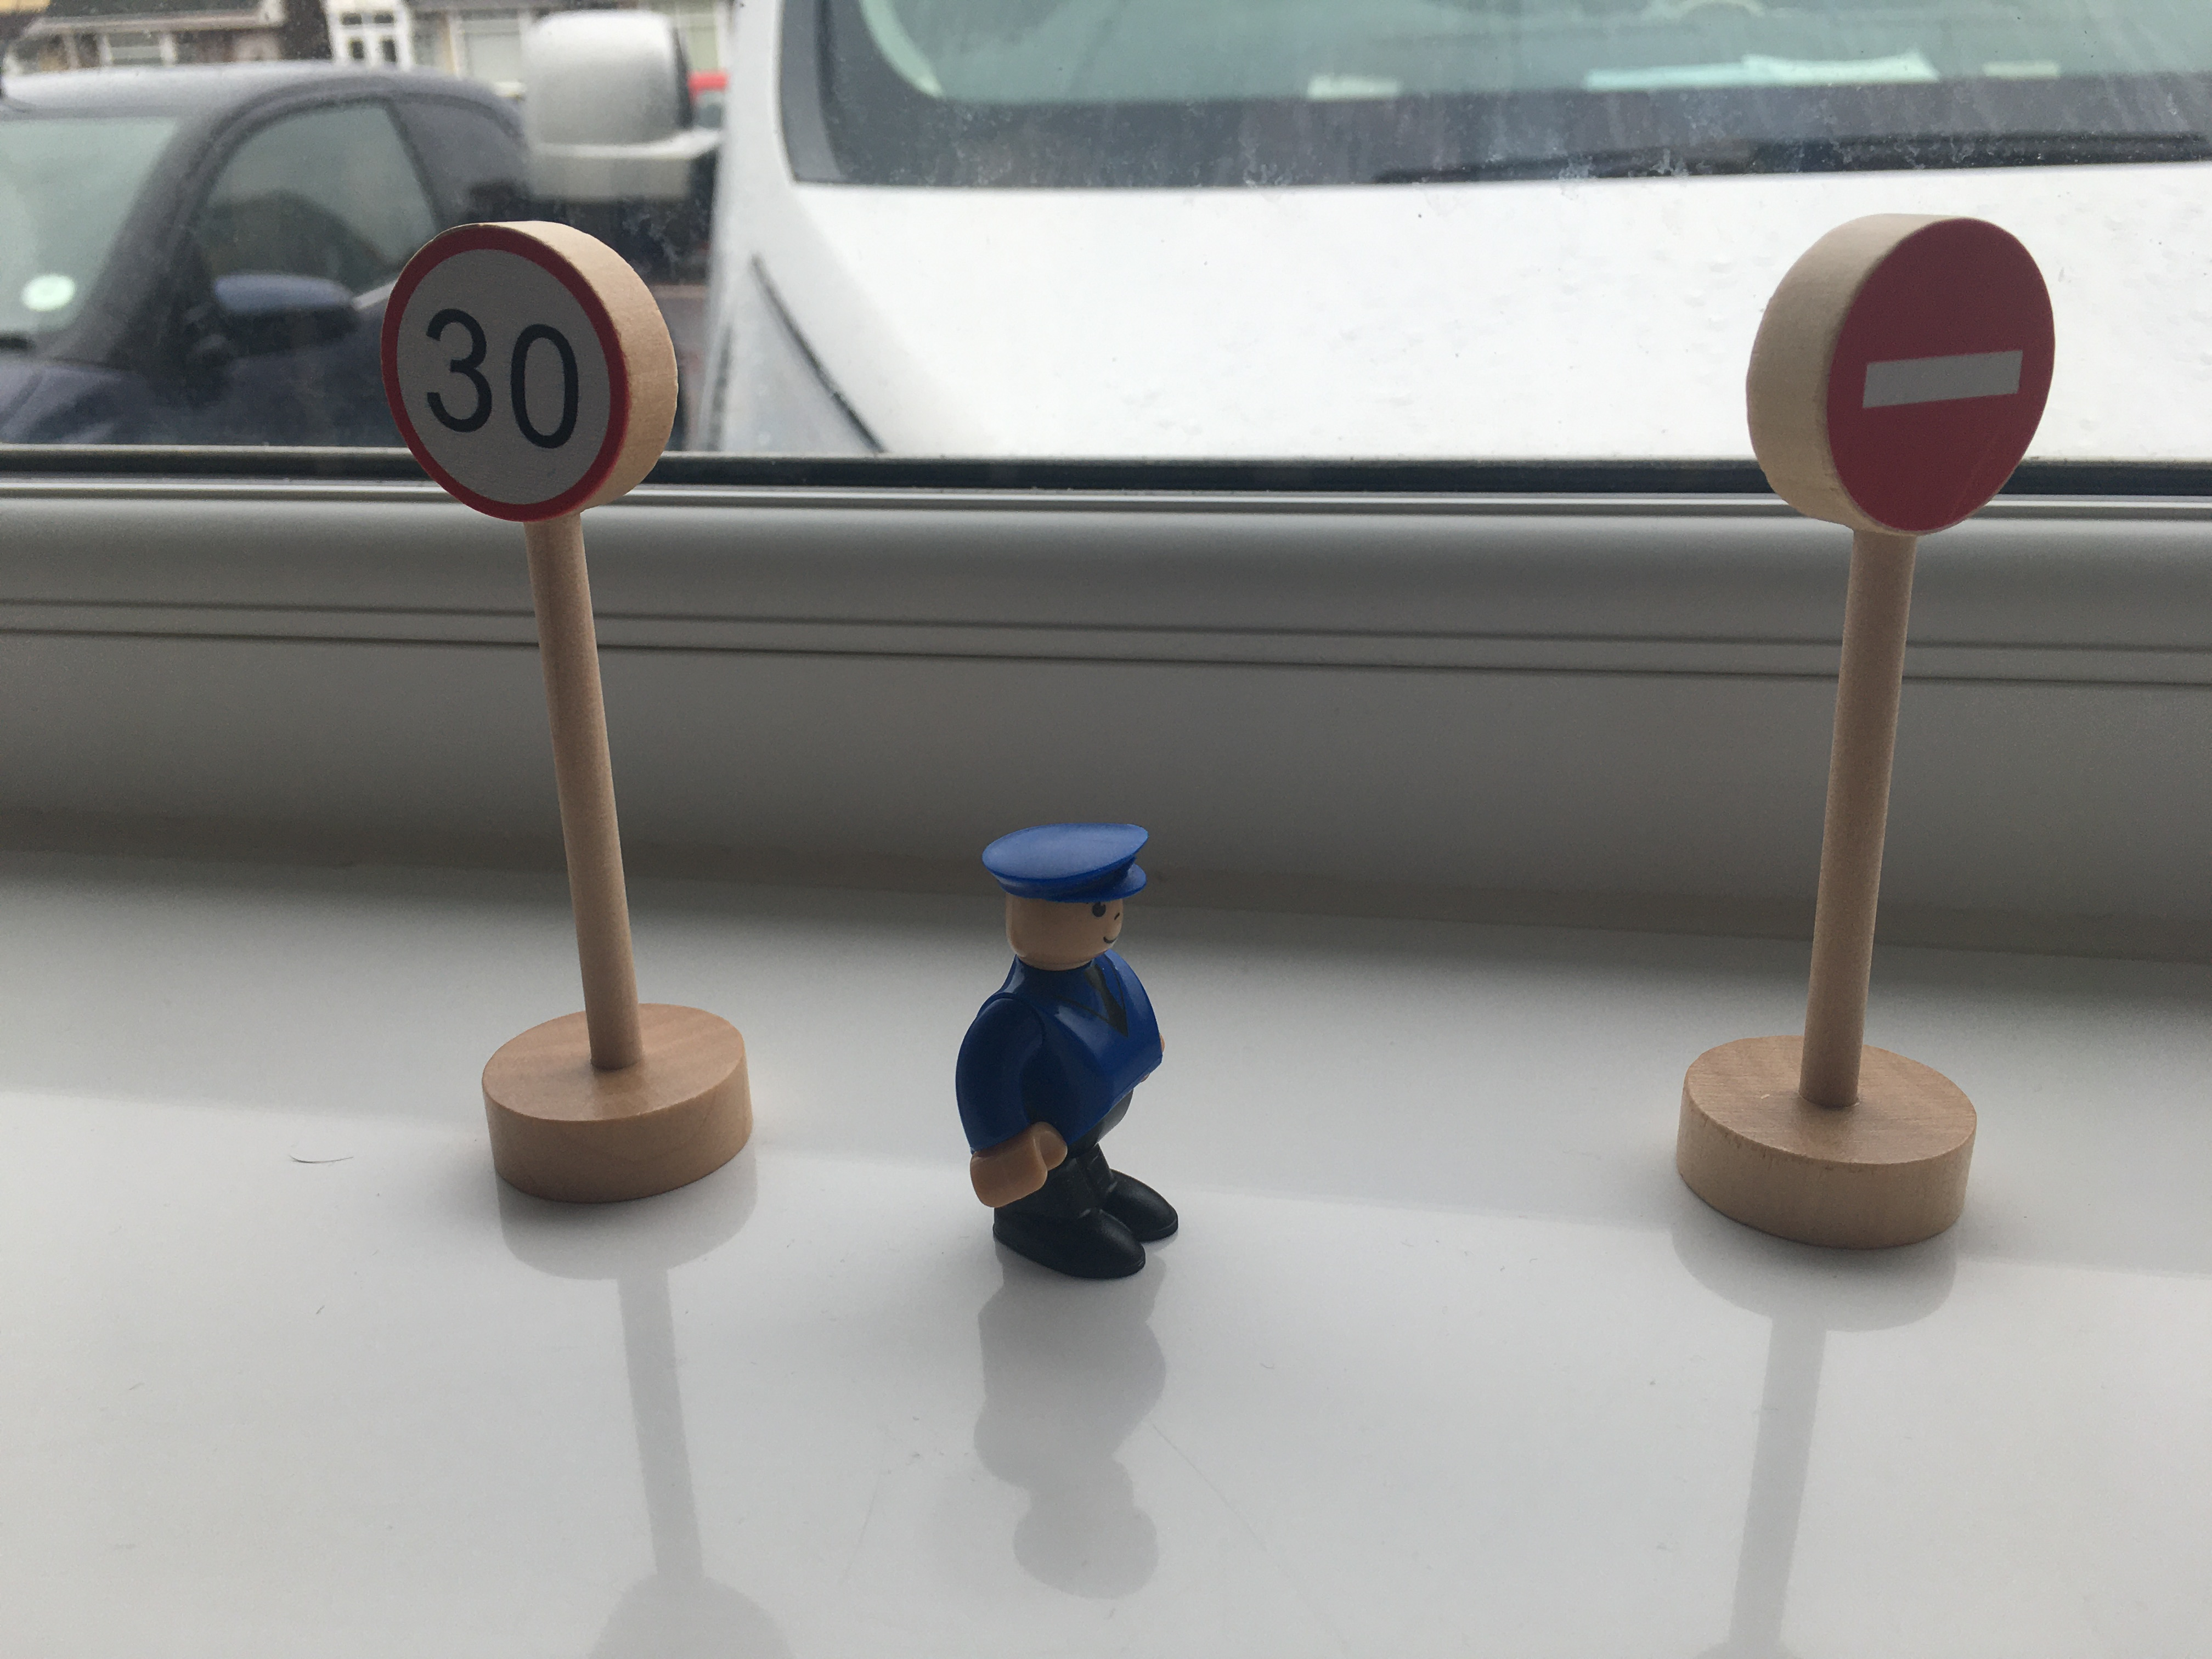Traffic_Sign_30: (381, 236, 636, 516)
Traffic_Sign_No_Entry: (1832, 229, 2056, 528)
person: (954, 804, 1218, 1308)
